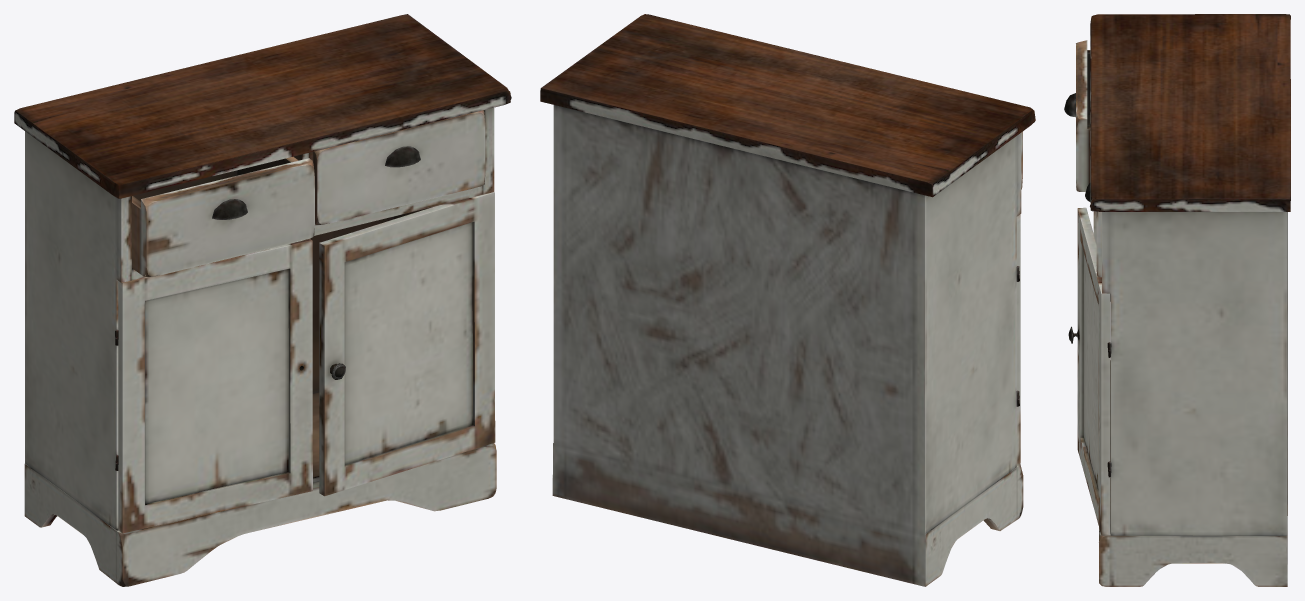
Rendered from distance.fbx.
3 views of the same model, side by side, from view 1: azimuth 30°, elevation 25°; view 2: azimuth 150°, elevation 25°; view 3: azimuth 270°, elevation 25° (orthographic). The views are drawn at different scales.
Visible parts, largest first — view 1: painted_wooden_cabinet, painted_wooden_cabinet_door_01, painted_wooden_cabinet_door_02, painted_wooden_cabinet_drawer_01, painted_wooden_cabinet_drawer_02; view 2: painted_wooden_cabinet, painted_wooden_cabinet_door_01; view 3: painted_wooden_cabinet, painted_wooden_cabinet_door_02, painted_wooden_cabinet_drawer_01, painted_wooden_cabinet_drawer_02.
Part boxes in pixels (x1,y1,x2,y2): painted_wooden_cabinet: (14,14,511,586); painted_wooden_cabinet_door_01: (118,238,312,533); painted_wooden_cabinet_door_02: (319,192,495,496); painted_wooden_cabinet_drawer_01: (132,156,314,276); painted_wooden_cabinet_drawer_02: (313,110,485,224); painted_wooden_cabinet: (540,14,1035,586); painted_wooden_cabinet_door_01: (1016,214,1020,465); painted_wooden_cabinet: (1090,14,1290,586); painted_wooden_cabinet_door_02: (1068,207,1110,535); painted_wooden_cabinet_drawer_01: (1064,40,1090,191); painted_wooden_cabinet_drawer_02: (1085,182,1101,277).
Bounding box in the file's own units: 119 × 118 × 61.76.
